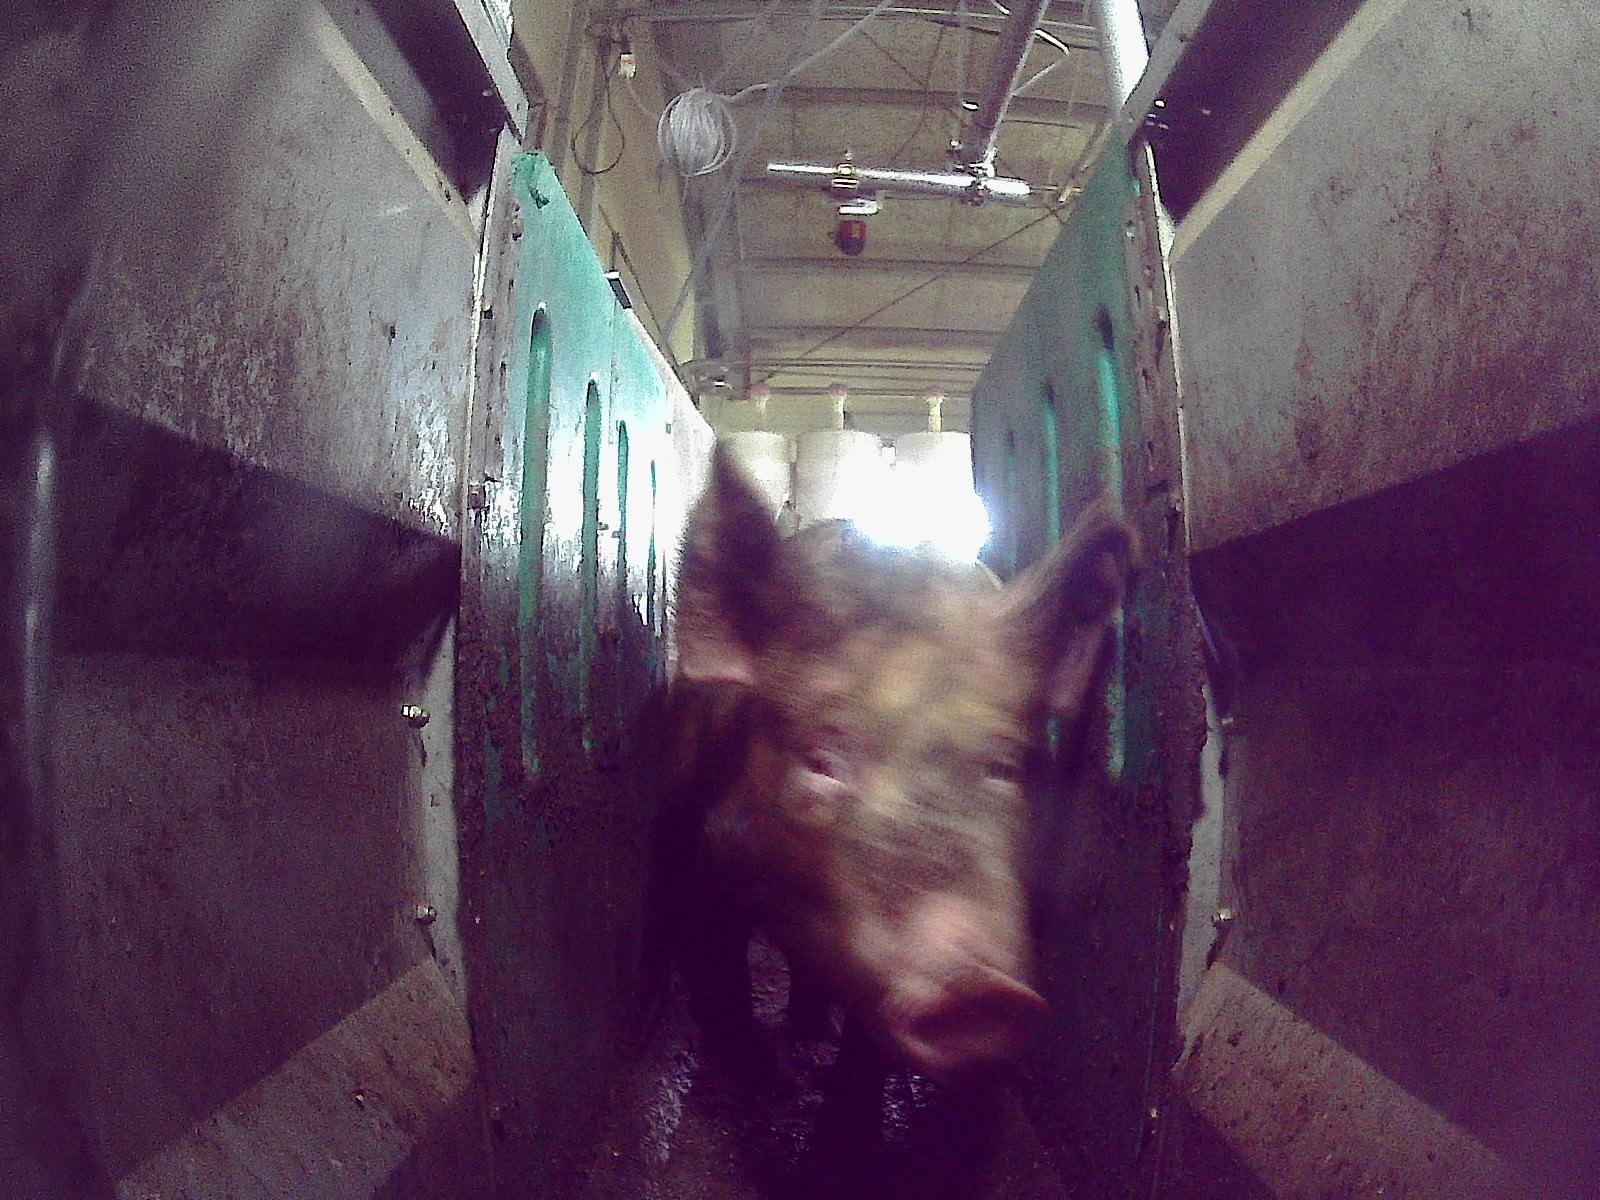Face: (760, 603, 1048, 1085)
